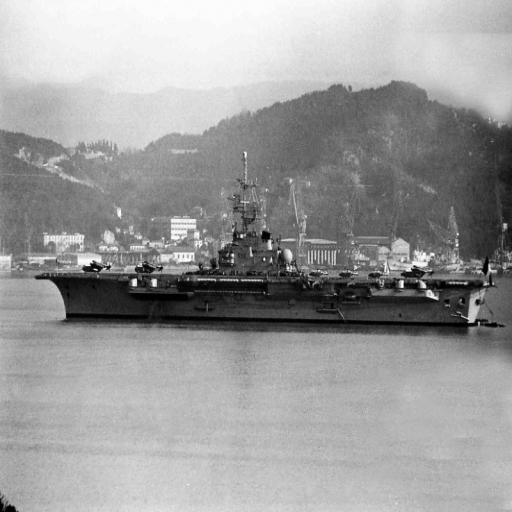Portanaves: (34, 144, 499, 330)
